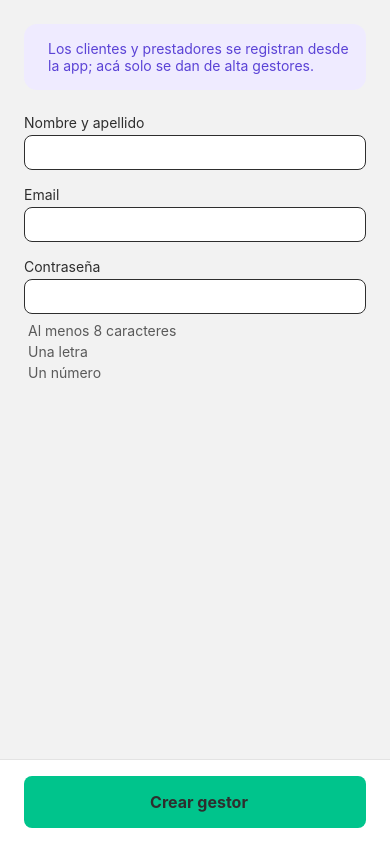
Scenario: FormularioUsuario › da de alta un gestor, avisa y vuelve
Type " Nueva Gestora " into the field named "Nombre y apellido" at (199, 152), box 49,136 -> 349,169
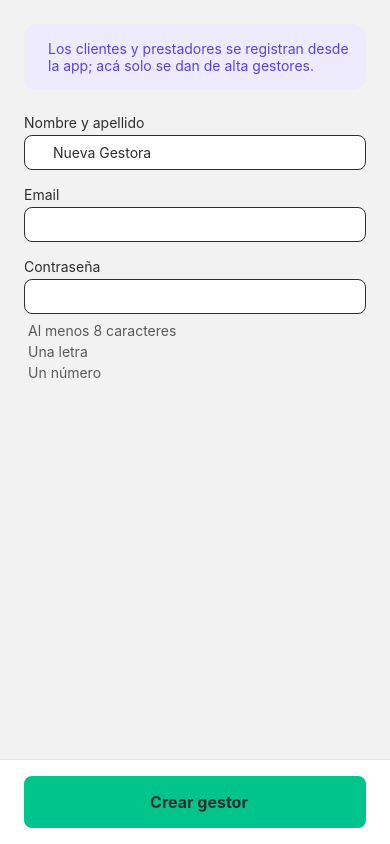
Type " g@mail.com " into the field named "Email" at (199, 224), box 49,208 -> 349,241
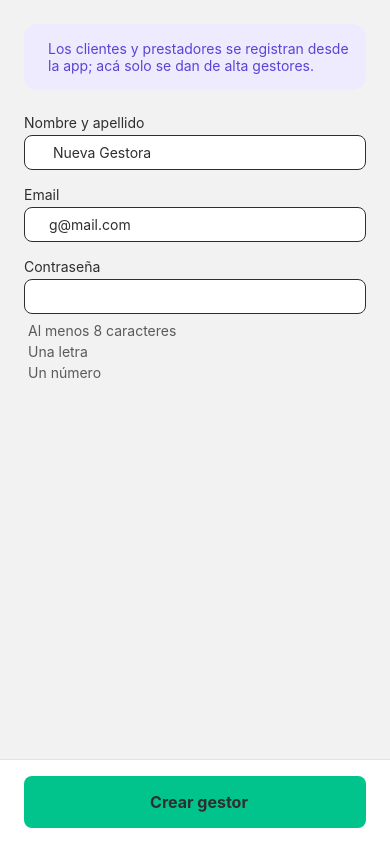
Type "clave1234" into the password field named "Contraseña" at (195, 296), box 49,280 -> 341,313
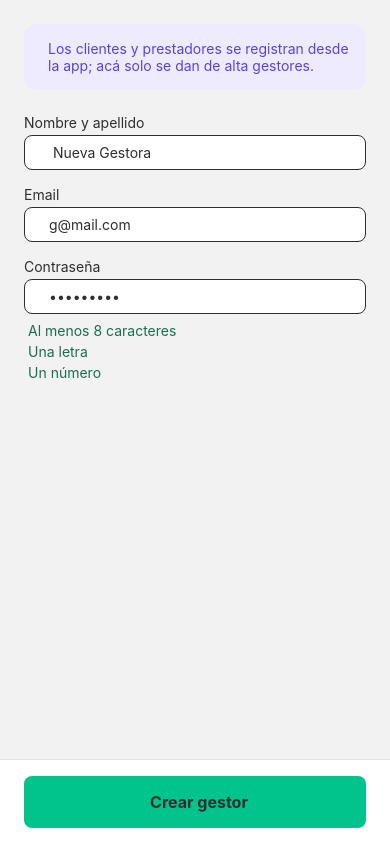
Click the button "Crear gestor" at (195, 802), box 24,776 -> 366,828
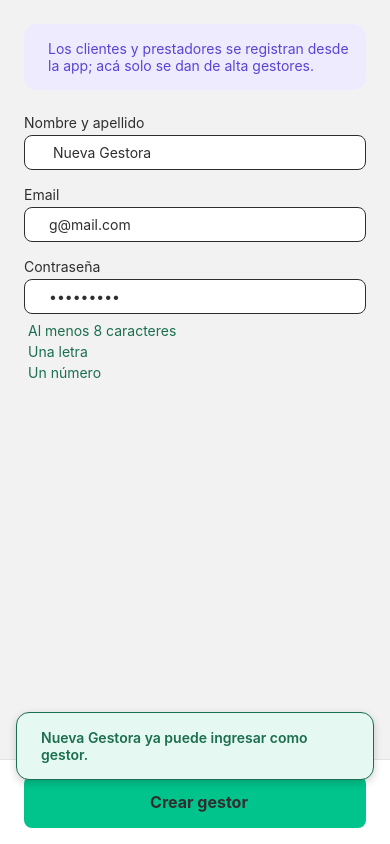
expect the text "Nueva Gestora ya puede ingresar como gestor." is shown: met, box 41,729 -> 357,763
